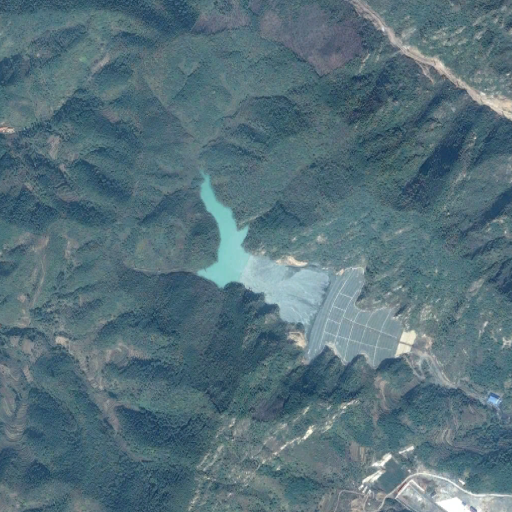tp: (193, 174, 417, 370)
